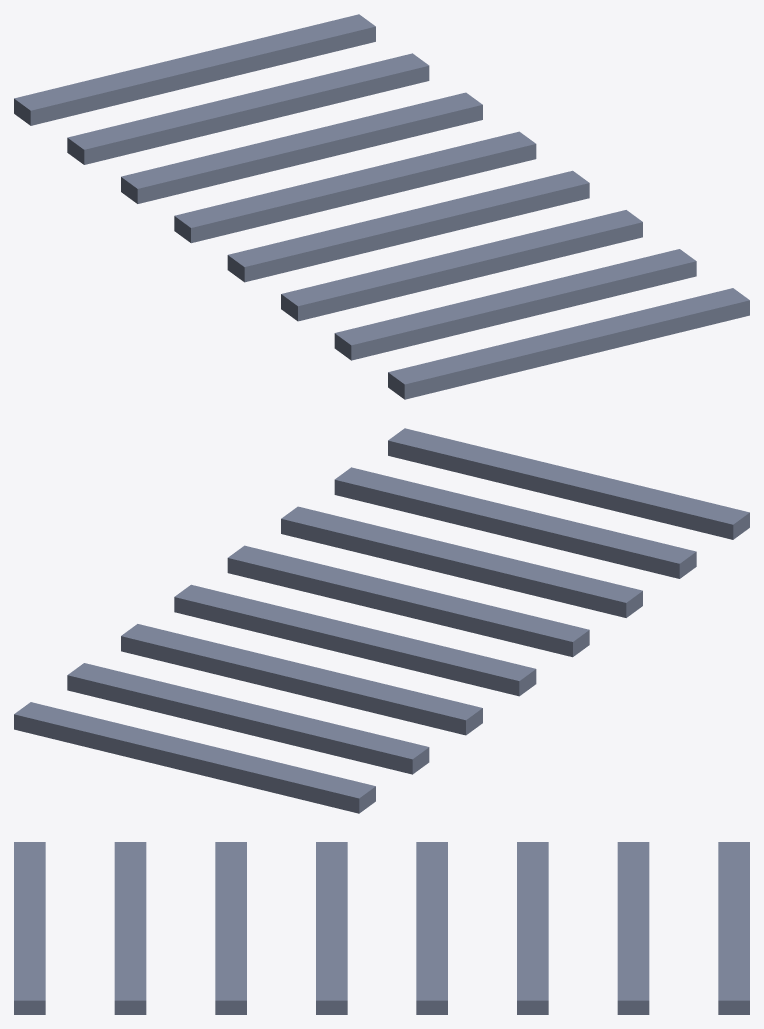
File: conveyor_belt.glb
3 views of the same model, one above another, from view 1: azimuth 30°, elevation 25°; view 2: azimuth 150°, elevation 25°; view 3: azimuth 270°, elevation 25° (orthographic). The views are drawn at different scales.
Visible parts, largest first — view 1: conveyor_belt; view 2: conveyor_belt; view 3: conveyor_belt.
Part boxes in pixels (bbox=[...]): conveyor_belt: bbox=[14, 14, 749, 399]; conveyor_belt: bbox=[14, 428, 749, 813]; conveyor_belt: bbox=[14, 842, 749, 1014].
Bounding box in the file's own units: 0.83 × 0.035 × 1.63.
